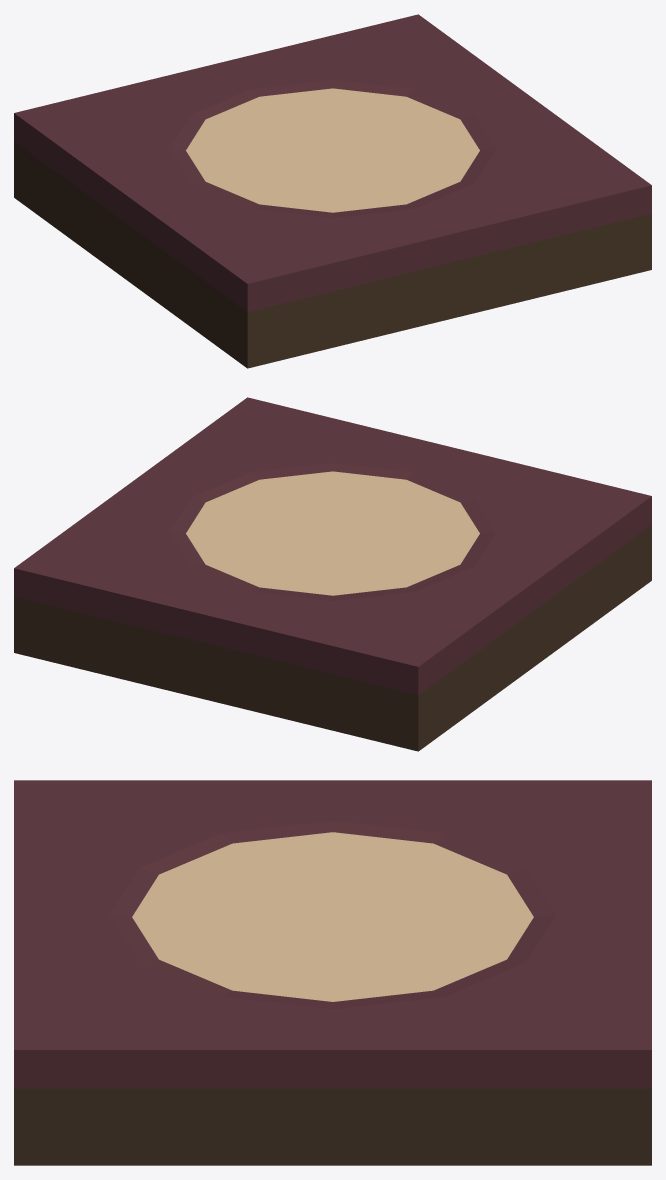
File: tiles-tile-golf-sand.glb
3 renders of one model, top to bottom at view 1: azimuth 30°, elevation 25°; view 2: azimuth 150°, elevation 25°; view 3: azimuth 270°, elevation 25°, orthographic. The views are drawn at different scales.
Visible parts, largest first — view 1: tile-golf-sand; view 2: tile-golf-sand; view 3: tile-golf-sand.
Part boxes in pixels (x1,y1,x2,y2): tile-golf-sand: (14,14,651,368); tile-golf-sand: (14,397,651,751); tile-golf-sand: (14,780,651,1165).
Size of the model in its own units: 30 by 6 by 30.
